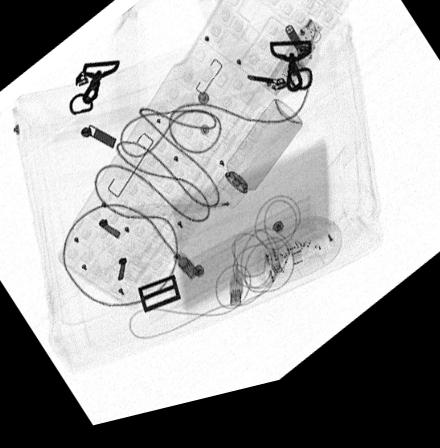Sprayer: (211, 111, 302, 221)
